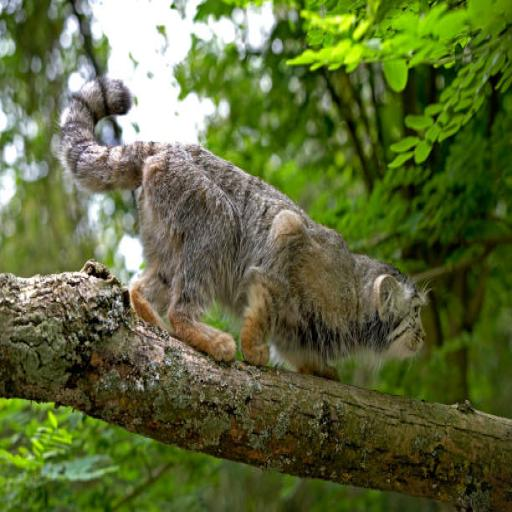manul: (60, 77, 426, 379)
